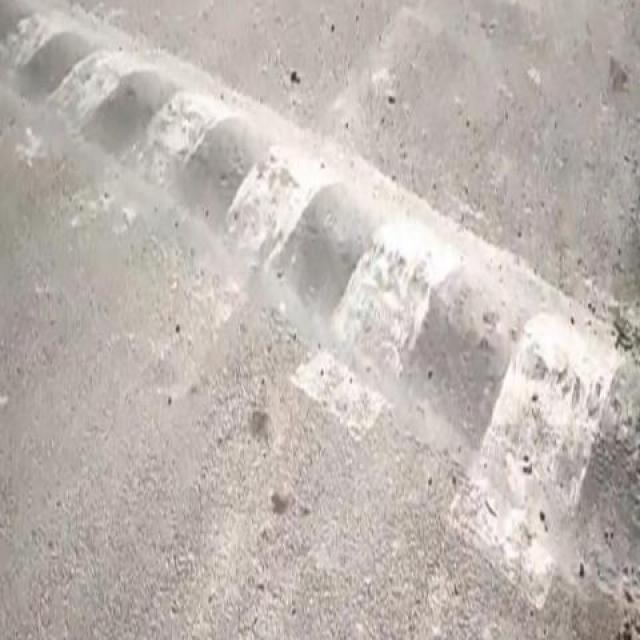Pothole: (0, 1, 632, 638)
